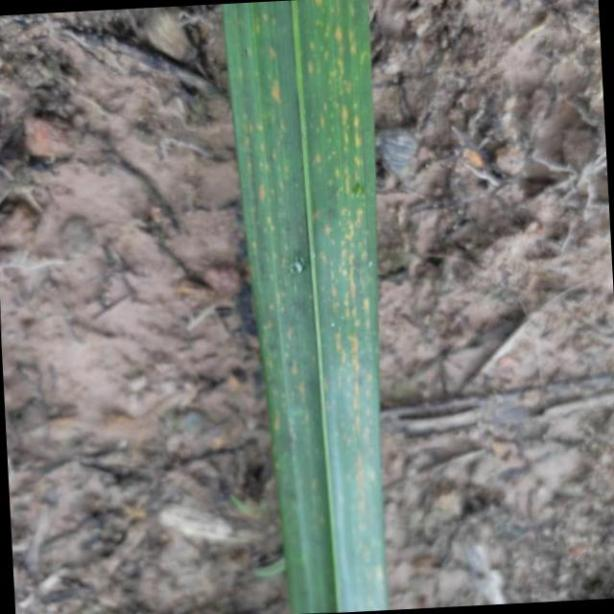Kalium: (217, 0, 387, 614)
